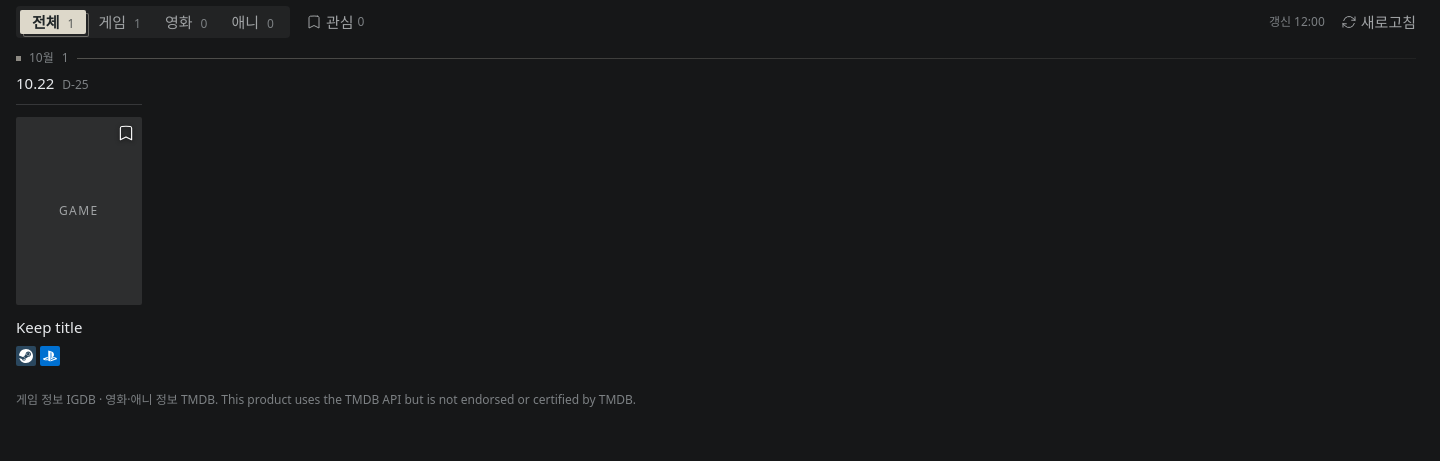
Test: server calendar handover › keeps the calendar and status after rateLimited
Expected: the text "Keep title" is shown, [16,317,82,337]
Click the button "새로고침" at (1378, 22), box [1333,8,1424,36]
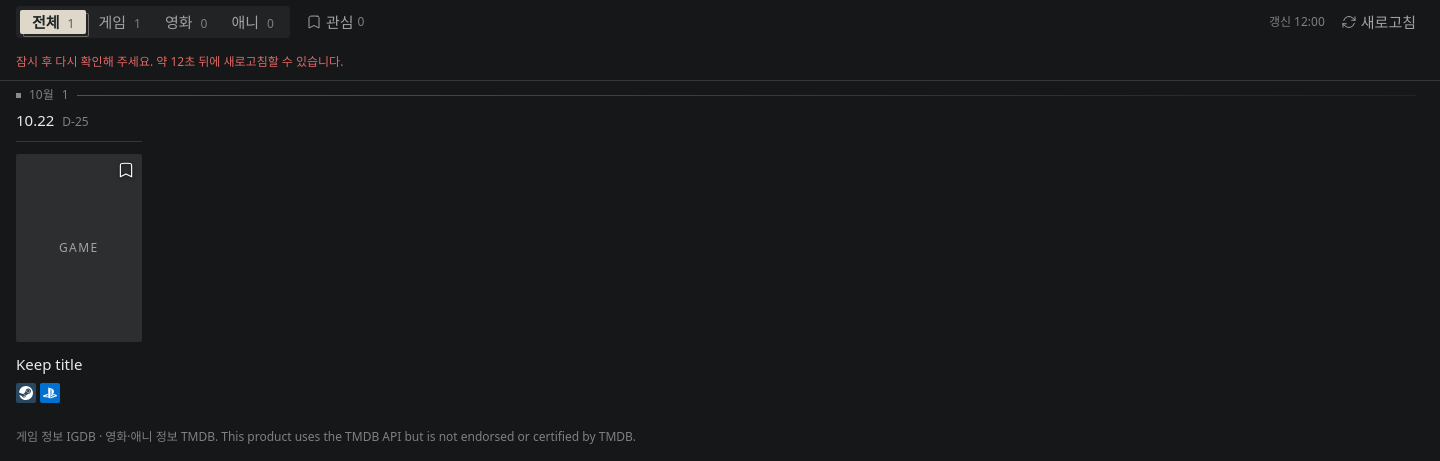
Expected: the text "Keep title" is shown, [16,354,82,374]
Now the message "잠시 후 다시 확인해 주세요. 약 12초 뒤에 새로고침할 수 있습니다." is shown, box [0,44,1439,81]
Now the message shows "잠시", box [16,53,343,70]
